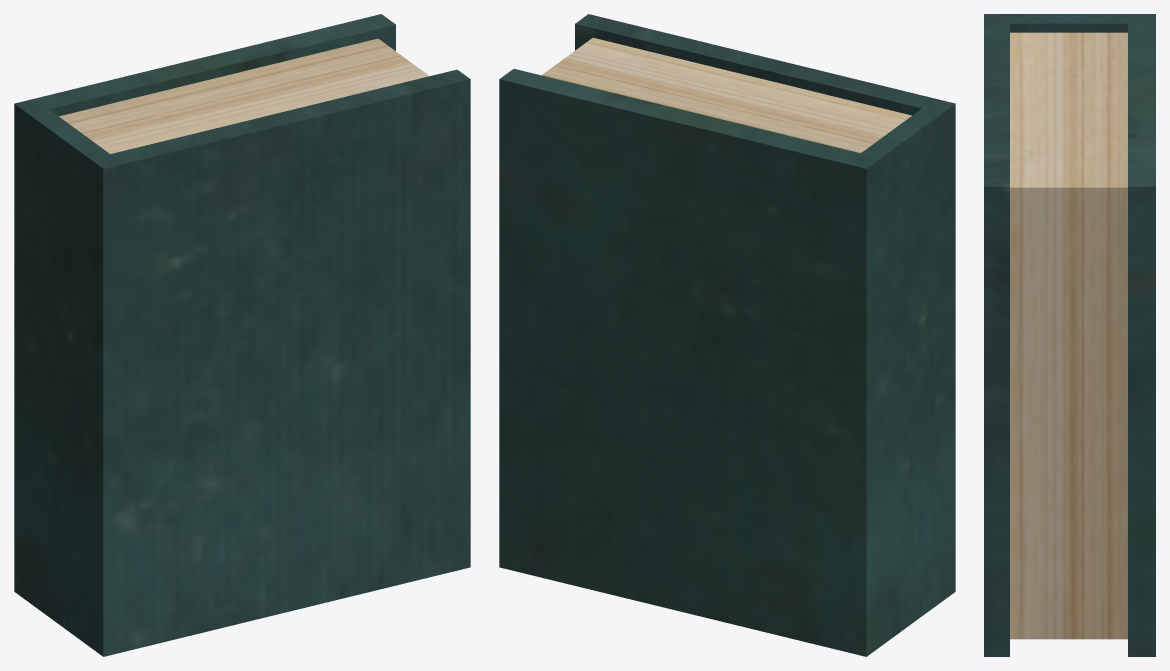
Rendered from broken_FlaskSquare.fbx_floor3.fbx_book2.fbx.
3 views of the same model, side by side, from view 1: azimuth 30°, elevation 25°; view 2: azimuth 150°, elevation 25°; view 3: azimuth 270°, elevation 25° (orthographic). The views are drawn at different scales.
Visible parts, largest first — view 1: Cube.016; view 2: Cube.016; view 3: Cube.016.
Part boxes in pixels (bbox=[...]): Cube.016: bbox=[14, 14, 470, 656]; Cube.016: bbox=[499, 14, 955, 656]; Cube.016: bbox=[984, 14, 1155, 656].
Bounding box in the file's own units: 18.68 × 23.72 × 7.86.
